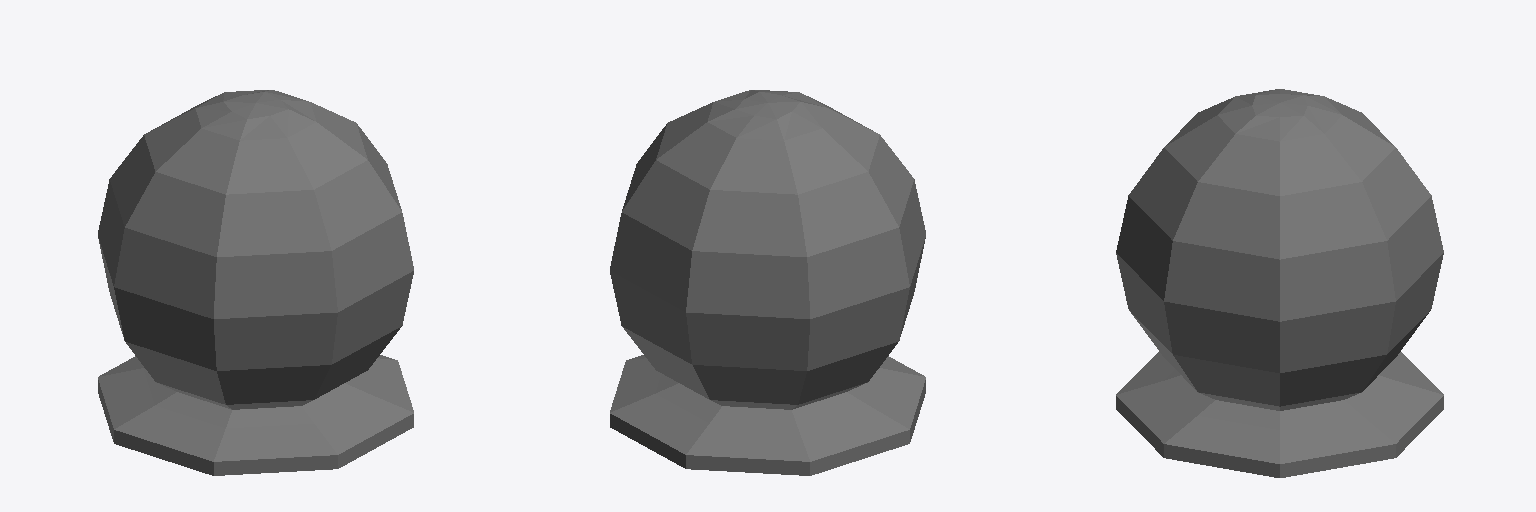
Rendered from Mesh_CrystalBall01.obj.
3 views of the same model, side by side, from view 1: azimuth 30°, elevation 25°; view 2: azimuth 150°, elevation 25°; view 3: azimuth 270°, elevation 25° (orthographic).
Parts seen in each view (by area): view 1: Mesh_Crystal_Ball01; view 2: Mesh_Crystal_Ball01; view 3: Mesh_Crystal_Ball01.
Part boxes in pixels (left/top/right/bottom): Mesh_Crystal_Ball01: left=98, top=90, right=413, bottom=475; Mesh_Crystal_Ball01: left=610, top=90, right=925, bottom=475; Mesh_Crystal_Ball01: left=1116, top=89, right=1443, bottom=477.
Size of the model in its own units: 2 by 2.06 by 2.